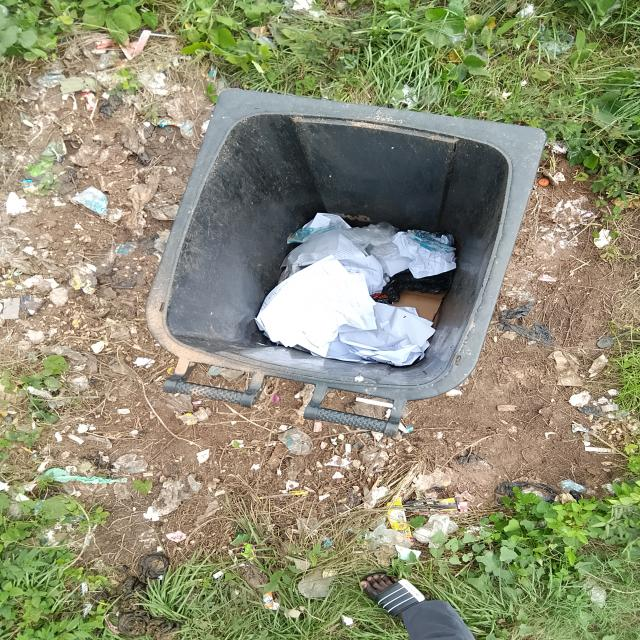half-full: (152, 85, 553, 394)
